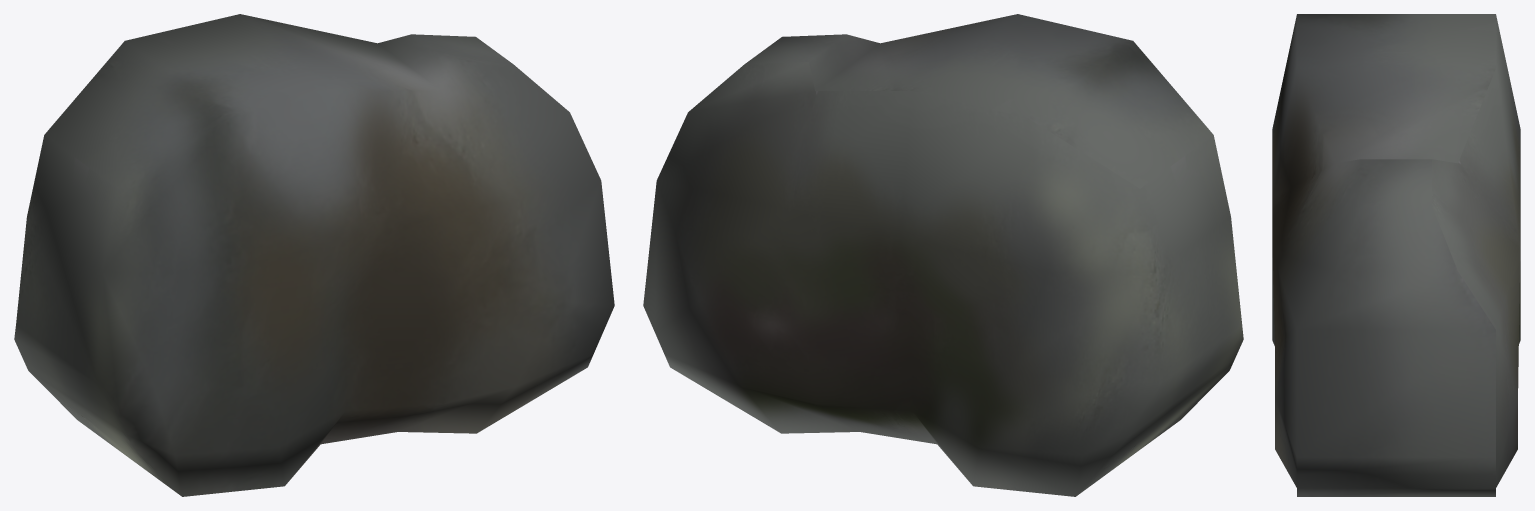
File: Rock02.fbx
3 renders of one model, left to right at view 1: azimuth 30°, elevation 25°; view 2: azimuth 150°, elevation 25°; view 3: azimuth 270°, elevation 25°, orthographic. The views are drawn at different scales.
Parts seen in each view (by area): view 1: Rock02; view 2: Rock02; view 3: Rock02.
Part boxes in pixels (bbox=[...]): Rock02: bbox=[14, 14, 614, 496]; Rock02: bbox=[643, 14, 1243, 496]; Rock02: bbox=[1272, 14, 1520, 496].
Bounding box in the file's own units: 1.84 × 1.32 × 0.8262.
1 material, 1 textured.
